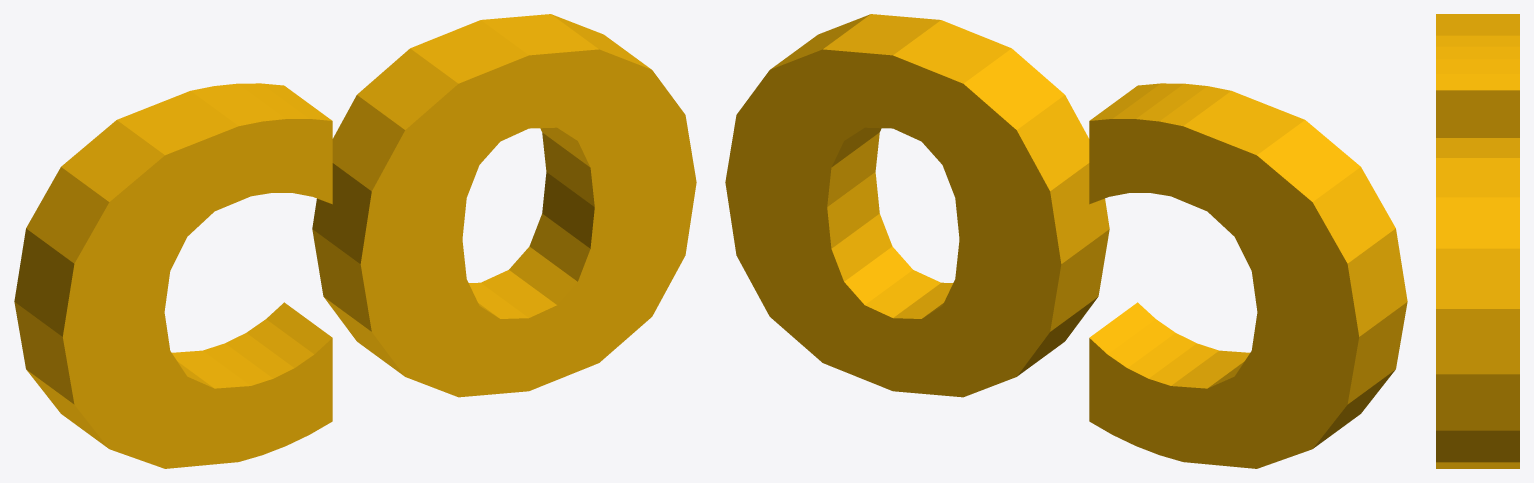
Rendered from suku_kecil_co.glb.
3 renders of one model, left to right at view 1: azimuth 30°, elevation 25°; view 2: azimuth 150°, elevation 25°; view 3: azimuth 270°, elevation 25°, orthographic. The views are drawn at different scales.
Parts seen in each view (by area): view 1: geometry_0; view 2: geometry_0; view 3: geometry_0.
Boxes of the visible parts, left/top/right/bottom form: geometry_0: left=14, top=14, right=696, bottom=468; geometry_0: left=725, top=14, right=1407, bottom=468; geometry_0: left=1436, top=14, right=1519, bottom=468.
Size of the model in its own units: 11.34 by 5.74 by 1.5.
